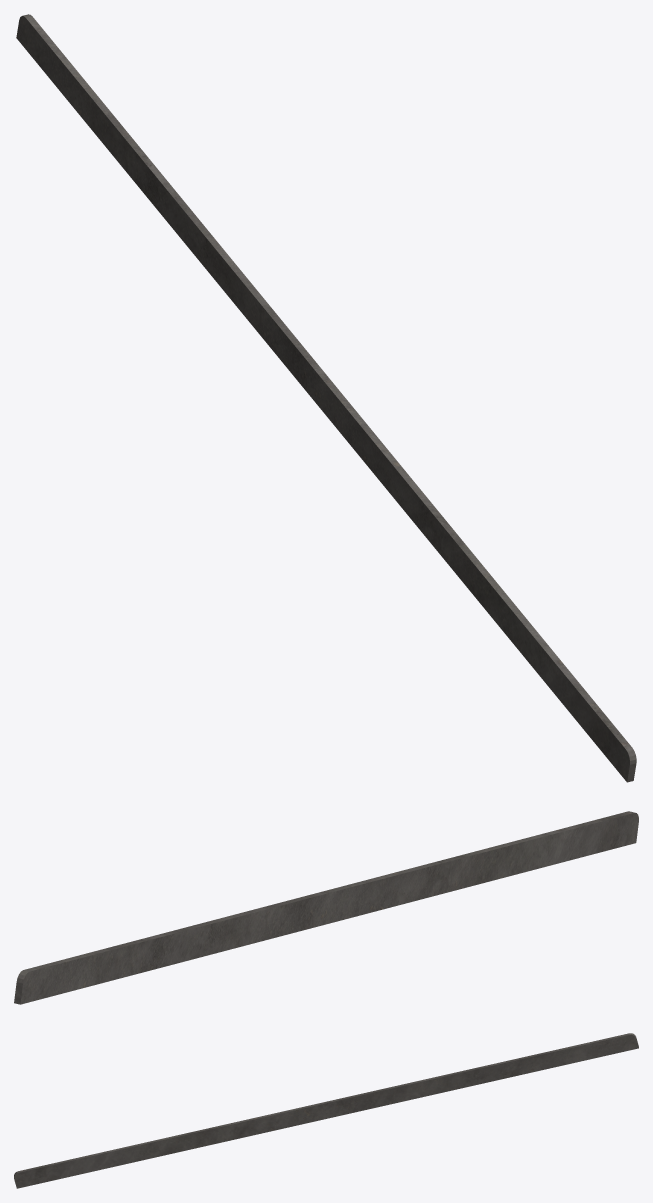
File: streetRail_MESH.fbx
3 renders of one model, top to bottom at view 1: azimuth 30°, elevation 25°; view 2: azimuth 150°, elevation 25°; view 3: azimuth 270°, elevation 25°, orthographic. The views are drawn at different scales.
Visible parts, largest first — view 1: streetRail_MESH; view 2: streetRail_MESH; view 3: streetRail_MESH.
Part boxes in pixels (x1,y1,x2,y2): streetRail_MESH: (16, 14, 636, 782); streetRail_MESH: (14, 811, 638, 1004); streetRail_MESH: (14, 1033, 638, 1188).
Size of the model in its own units: 91.75 by 5504 by 1524.
